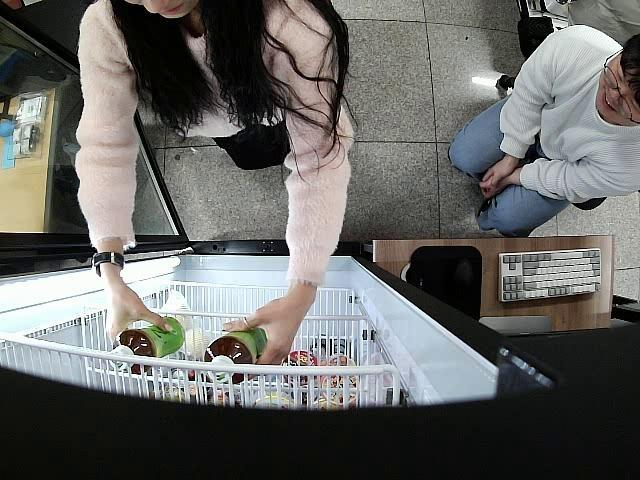19_17cha: (110, 317, 186, 373), (203, 328, 270, 388)
